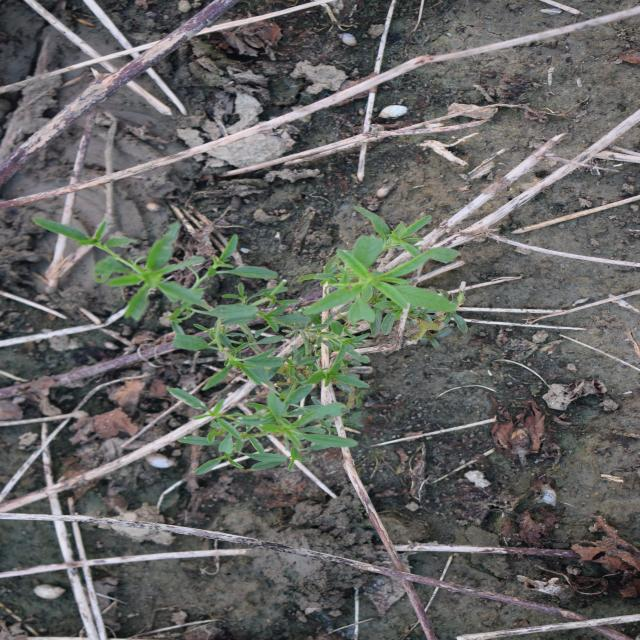Waterhemp: (28, 204, 464, 476)
